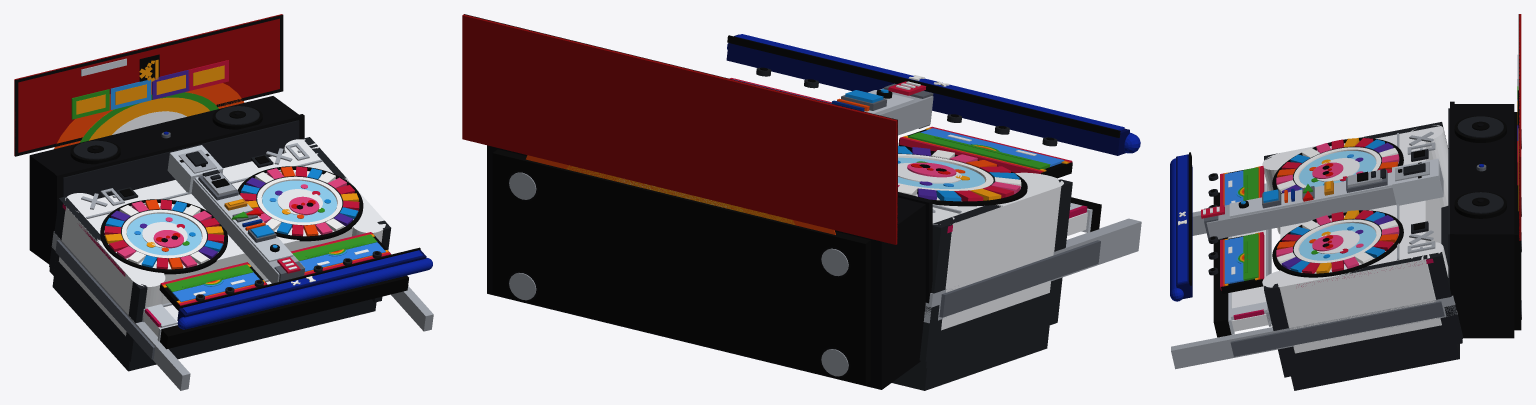
Rendered from maimai_rig.obj.
The picture shows the model from 3 angles, left to right: view 1: azimuth 30°, elevation 25°; view 2: azimuth 150°, elevation 25°; view 3: azimuth 270°, elevation 25°; orthographic projection. The views are drawn at different scales.
Visible parts, largest first — view 1: mats_base, bs_main, bs_rail_t, pn_c, pn_rear, tb_main, pn_s1, cn_bar, pn_pil1, bs_rail, cn_face, cl_main (+44 smaller); view 2: mats_base, bs_plinth, bs_main, pn_s1, pn_pil1, cn_body, ar_gap1, pn_rear, cn_line, ar_main1, cn_face, mats_o (+14 smaller); view 3: bs_main, pn_s-1, pn_pil-1, cl_main, ar_gap-1, pn_rear, pn_c, ar_main-1, cl_foot, cl_face, cn_face, bs_plinth (+39 smaller).
Part boxes in pixels (x1,y1,x2,y2): mats_base: (14, 14, 282, 155); bs_main: (29, 96, 302, 264); bs_rail_t: (63, 120, 299, 198); pn_c: (84, 150, 367, 304); pn_rear: (52, 277, 376, 371); tb_main: (160, 275, 408, 349); pn_s1: (59, 205, 155, 335); cn_bar: (185, 258, 429, 328); pn_pil1: (49, 196, 147, 361); bs_rail: (54, 114, 304, 228); cn_face: (182, 250, 423, 313); cl_main: (191, 179, 305, 283); mats_base: (462, 14, 897, 244); bs_plinth: (492, 149, 870, 384); bs_main: (487, 145, 925, 389); pn_s1: (932, 177, 1060, 329); pn_pil1: (915, 179, 1072, 368); cn_body: (726, 34, 1129, 155); ar_gap1: (939, 240, 1100, 317); pn_rear: (892, 325, 1049, 390); cn_line: (727, 35, 1120, 137); ar_main1: (923, 218, 1141, 323); cn_face: (735, 34, 1124, 130); mats_o: (526, 155, 835, 234); bs_main: (1454, 104, 1514, 338); pn_s-1: (1280, 243, 1440, 353); pn_pil-1: (1264, 252, 1462, 377); cl_main: (1206, 165, 1443, 238); ar_gap-1: (1230, 301, 1444, 356); pn_rear: (1291, 206, 1459, 390); pn_c: (1280, 134, 1441, 278); ar_main-1: (1171, 295, 1457, 369); cl_foot: (1392, 158, 1443, 205); cl_face: (1229, 172, 1392, 217); cn_face: (1177, 154, 1187, 283); bs_plinth: (1514, 112, 1521, 330).
Bounding box in the file's own units: 2.13 × 1.66 × 2.21.
